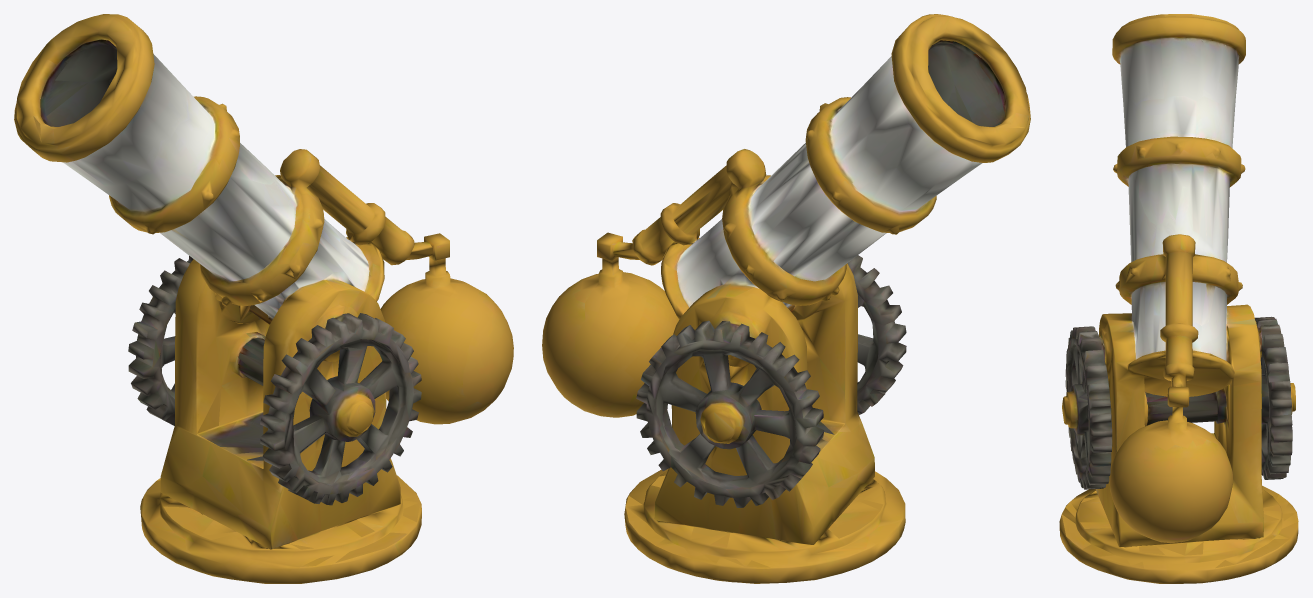
Rendered from prop_star_telescope.fbx.
3 views of the same model, side by side, from view 1: azimuth 30°, elevation 25°; view 2: azimuth 150°, elevation 25°; view 3: azimuth 270°, elevation 25° (orthographic). The views are drawn at different scales.
Visible parts, largest first — view 1: tripo_node_bdcd317d-fa6f-4766-896d-9a51961bbd75; view 2: tripo_node_bdcd317d-fa6f-4766-896d-9a51961bbd75; view 3: tripo_node_bdcd317d-fa6f-4766-896d-9a51961bbd75.
Part boxes in pixels (left/top/right/bottom): tripo_node_bdcd317d-fa6f-4766-896d-9a51961bbd75: left=14, top=14, right=513, bottom=583; tripo_node_bdcd317d-fa6f-4766-896d-9a51961bbd75: left=542, top=14, right=1030, bottom=583; tripo_node_bdcd317d-fa6f-4766-896d-9a51961bbd75: left=1059, top=14, right=1298, bottom=583.
Bounding box in the file's own units: 0.883 × 0.9799 × 0.4622.
